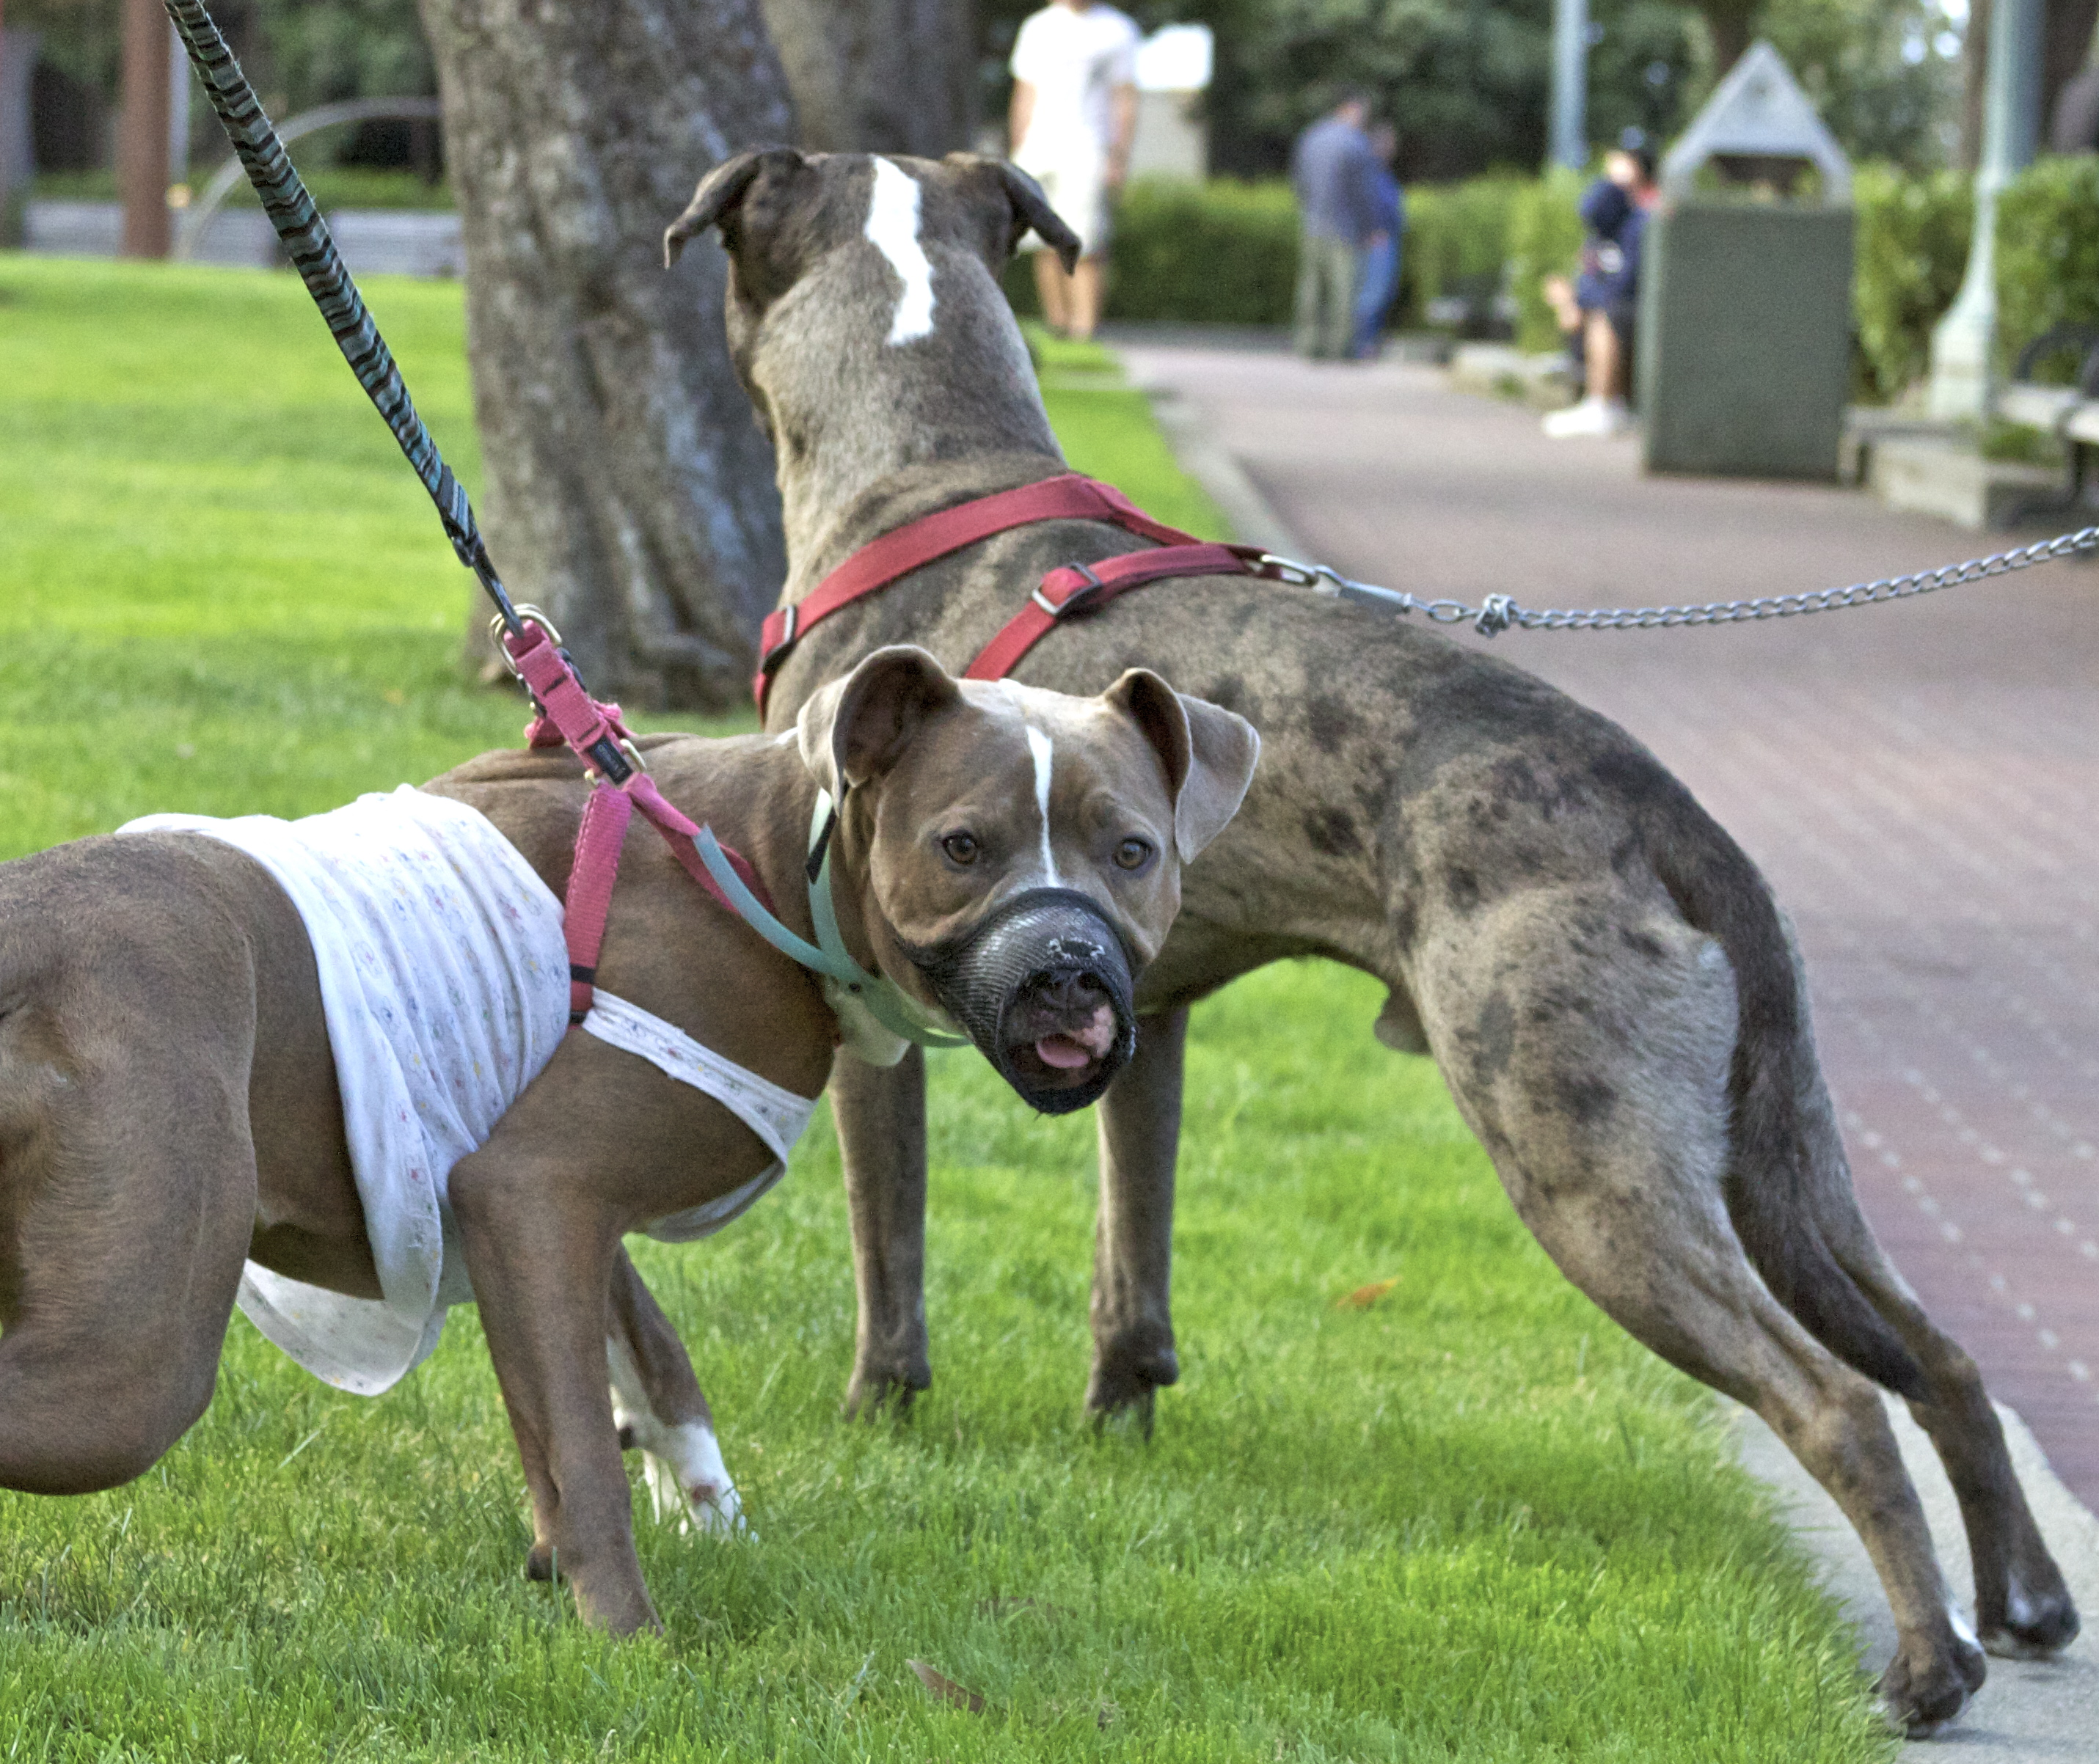am_pit_bull_terrier: (649, 142, 2083, 1740), (2, 646, 1260, 1650)
